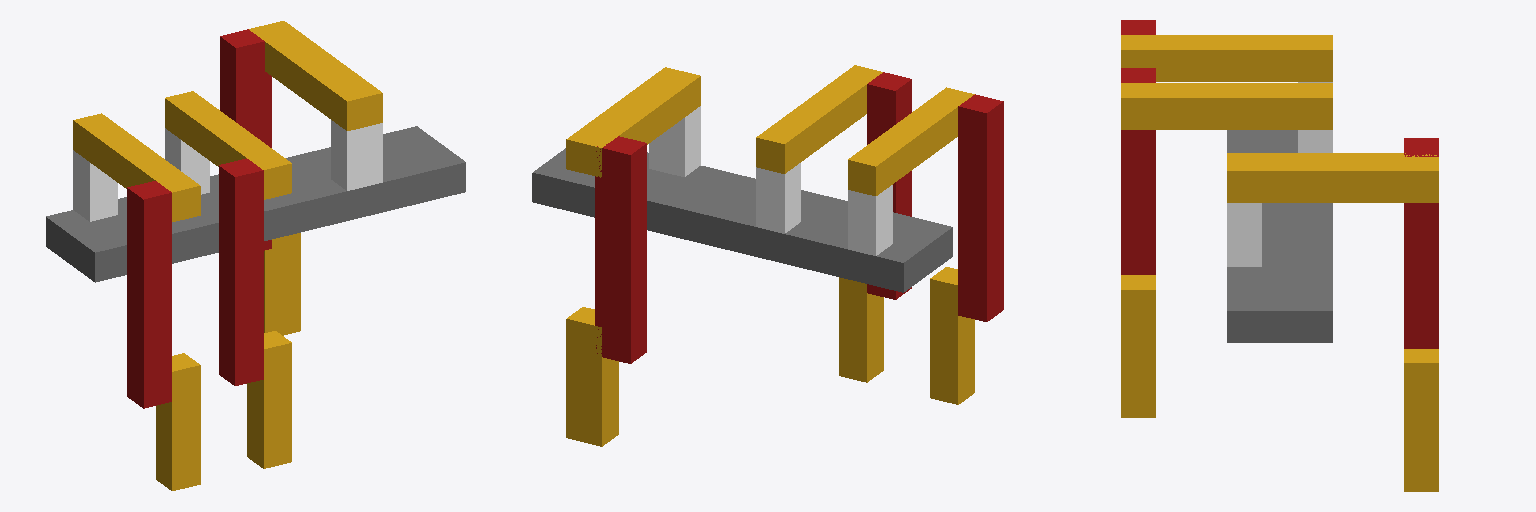
robot.urdf — v0:
<?xml version="1.0" encoding="utf-8"?>
<!-- =================================================================================== -->
<!-- |    This document was autogenerated by xacro from ../robots/v0variants/xacros/v0_4l_16.xacro | -->
<!-- |    EDITING THIS FILE BY HAND IS NOT RECOMMENDED                                 | -->
<!-- =================================================================================== -->
<robot name="v0">
  <material name="grey">
    <color rgba="0.5 0.5 0.5 1"/>
  </material>
  <material name="white">
    <color rgba="1 1 1 1"/>
  </material>
  <material name="yellow">
    <color rgba="0.91 0.7 0.14 1"/>
  </material>
  <material name="red">
    <color rgba="0.71 0.14 0.14 1"/>
  </material>
  <link name="body">
    <visual>
      <geometry>
        <box size="1.3 0.3 0.1"/>
      </geometry>
      <material name="grey"/>
      <origin rpy="0 0 0" xyz="0 0 0.7"/>
    </visual>
    <collision>
      <geometry>
        <box size="1.3 0.3 0.1"/>
      </geometry>
      <origin rpy="0 0 0" xyz="0 0 0.7"/>
    </collision>
    <inertial>
      <mass value="99.84"/>
      <inertia ixx="0.832" ixy="0.0" ixz="0.0" iyy="14.144" iyz="0.0" izz="14.8096"/>
    </inertial>
  </link>
  <link name="l1_segment_1">
    <visual>
      <geometry>
        <box size="0.1 0.1 0.2"/>
      </geometry>
      <material name="white"/>
      <origin rpy="0 0 0" xyz="0 0 0.1"/>
    </visual>
    <collision>
      <geometry>
        <box size="0.1 0.1 0.2"/>
      </geometry>
      <origin rpy="0 0 0" xyz="0 0 0.1"/>
    </collision>
    <inertial>
      <mass value="5.12"/>
      <inertia ixx="0.0213333333333" ixy="0.0" ixz="0.0" iyy="0.0213333333333" iyz="0.0" izz="0.00853333333333"/>
    </inertial>
  </link>
  <joint name="l1_base_to_joint_1" type="fixed">
    <parent link="body"/>
    <child link="l1_segment_1"/>
    <origin rpy="0 0 0" xyz="0.3081286057336212 -0.1 0.75"/>
  </joint>
  <link name="l1_segment_2_HIP">
    <visual>
      <geometry>
        <box size="0.1 0.6 0.1"/>
      </geometry>
      <material name="yellow"/>
      <origin rpy="0 0 0" xyz="0 0.25 0"/>
    </visual>
    <collision>
      <geometry>
        <box size="0.1 0.6 0.1"/>
      </geometry>
      <origin rpy="0 0 0" xyz="0 0.25 0"/>
    </collision>
    <inertial>
      <mass value="15.36"/>
      <inertia ixx="0.4736" ixy="0.0" ixz="0.0" iyy="0.0256" iyz="0.0" izz="0.4736"/>
    </inertial>
  </link>
  <joint name="l1_joint_1_to_2" type="revolute">
    <parent link="l1_segment_1"/>
    <child link="l1_segment_2_HIP"/>
    <origin rpy="0 0 0" xyz="0 0 0.25"/>
    <axis xyz="0.0 0.0 1.0"/>
    <limit effort="2048" lower="-1.2" upper="1.2" velocity="20"/>
  </joint>
  <link name="l1_segment_3_THIGH">
    <visual>
      <geometry>
        <box size="0.1 0.1 0.7"/>
      </geometry>
      <material name="red"/>
      <origin rpy="0 0 0" xyz="0 0 -0.3"/>
    </visual>
    <collision>
      <geometry>
        <box size="0.1 0.1 0.7"/>
      </geometry>
      <origin rpy="0 0 0" xyz="0 0 -0.3"/>
    </collision>
    <inertial>
      <mass value="17.92"/>
      <inertia ixx="0.746666666667" ixy="0.0" ixz="0.0" iyy="0.746666666667" iyz="0.0" izz="0.0298666666667"/>
    </inertial>
  </link>
  <joint name="l1_joint_2_to_3" type="revolute">
    <parent link="l1_segment_2_HIP"/>
    <child link="l1_segment_3_THIGH"/>
    <origin rpy="0 0 0" xyz="-0.1 0.5 0"/>
    <axis xyz="1.0 0.0 0.0"/>
    <limit effort="2048" lower="-0.2" upper="0.75" velocity="20"/>
  </joint>
  <link name="l1_segment_4_FOOT">
    <visual>
      <geometry>
        <box size="0.1 0.1 0.4"/>
      </geometry>
      <material name="yellow"/>
      <origin rpy="0 0 0" xyz="0 0 -0.2"/>
    </visual>
    <collision>
      <geometry>
        <box size="0.1 0.1 0.4"/>
      </geometry>
      <origin rpy="0 0 0" xyz="0 0 -0.2"/>
    </collision>
    <inertial>
      <mass value="10.24"/>
      <inertia ixx="0.145066666667" ixy="0.0" ixz="0.0" iyy="0.145066666667" iyz="0.0" izz="0.0170666666667"/>
    </inertial>
  </link>
  <joint name="l1_joint_3_to_4_FOOT" type="revolute">
    <parent link="l1_segment_3_THIGH"/>
    <child link="l1_segment_4_FOOT"/>
    <origin rpy="0 0 0" xyz="0.1 0 -0.55"/>
    <axis xyz="1.0 0.0 0.0"/>
    <limit effort="2048" lower="-0.2" upper="0.5" velocity="20"/>
  </joint>
  <link name="r2_segment_1">
    <visual>
      <geometry>
        <box size="0.1 0.1 0.2"/>
      </geometry>
      <material name="white"/>
      <origin rpy="0 0 0" xyz="0 0 0.1"/>
    </visual>
    <collision>
      <geometry>
        <box size="0.1 0.1 0.2"/>
      </geometry>
      <origin rpy="0 0 0" xyz="0 0 0.1"/>
    </collision>
    <inertial>
      <mass value="5.12"/>
      <inertia ixx="0.0213333333333" ixy="0.0" ixz="0.0" iyy="0.0213333333333" iyz="0.0" izz="0.00853333333333"/>
    </inertial>
  </link>
  <joint name="r2_base_to_joint_1" type="fixed">
    <parent link="body"/>
    <child link="r2_segment_1"/>
    <origin rpy="0 0 0" xyz="-0.5034749767304219 0.1 0.75"/>
  </joint>
  <link name="r2_segment_2_HIP">
    <visual>
      <geometry>
        <box size="0.1 0.6 0.1"/>
      </geometry>
      <material name="yellow"/>
      <origin rpy="0 0 0" xyz="0 -0.25 0"/>
    </visual>
    <collision>
      <geometry>
        <box size="0.1 0.6 0.1"/>
      </geometry>
      <origin rpy="0 0 0" xyz="0 -0.25 0"/>
    </collision>
    <inertial>
      <mass value="15.36"/>
      <inertia ixx="0.4736" ixy="0.0" ixz="0.0" iyy="0.0256" iyz="0.0" izz="0.4736"/>
    </inertial>
  </link>
  <joint name="r2_joint_1_to_2" type="revolute">
    <parent link="r2_segment_1"/>
    <child link="r2_segment_2_HIP"/>
    <origin rpy="0 0 0" xyz="0 0 0.25"/>
    <axis xyz="0.0 0.0 1.0"/>
    <limit effort="2048" lower="-1.2" upper="1.2" velocity="20"/>
  </joint>
  <link name="r2_segment_3_THIGH">
    <visual>
      <geometry>
        <box size="0.1 0.1 0.7"/>
      </geometry>
      <material name="red"/>
      <origin rpy="0 0 0" xyz="0 0 -0.3"/>
    </visual>
    <collision>
      <geometry>
        <box size="0.1 0.1 0.7"/>
      </geometry>
      <origin rpy="0 0 0" xyz="0 0 -0.3"/>
    </collision>
    <inertial>
      <mass value="17.92"/>
      <inertia ixx="0.746666666667" ixy="0.0" ixz="0.0" iyy="0.746666666667" iyz="0.0" izz="0.0298666666667"/>
    </inertial>
  </link>
  <joint name="r2_joint_2_to_3" type="revolute">
    <parent link="r2_segment_2_HIP"/>
    <child link="r2_segment_3_THIGH"/>
    <origin rpy="0 0 0" xyz="-0.1 -0.5 0"/>
    <axis xyz="1.0 0.0 0.0"/>
    <limit effort="2048" lower="-0.75" upper="0.2" velocity="20"/>
  </joint>
  <link name="r2_segment_4_FOOT">
    <visual>
      <geometry>
        <box size="0.1 0.1 0.4"/>
      </geometry>
      <material name="yellow"/>
      <origin rpy="0 0 0" xyz="0 0 -0.2"/>
    </visual>
    <collision>
      <geometry>
        <box size="0.1 0.1 0.4"/>
      </geometry>
      <origin rpy="0 0 0" xyz="0 0 -0.2"/>
    </collision>
    <inertial>
      <mass value="10.24"/>
      <inertia ixx="0.145066666667" ixy="0.0" ixz="0.0" iyy="0.145066666667" iyz="0.0" izz="0.0170666666667"/>
    </inertial>
  </link>
  <joint name="r2_joint_3_to_4_FOOT" type="revolute">
    <parent link="r2_segment_3_THIGH"/>
    <child link="r2_segment_4_FOOT"/>
    <origin rpy="0 0 0" xyz="0.1 0 -0.55"/>
    <axis xyz="1.0 0.0 0.0"/>
    <limit effort="2048" lower="-0.5" upper="0.2" velocity="20"/>
  </joint>
  <link name="l3_segment_1">
    <visual>
      <geometry>
        <box size="0.1 0.1 0.2"/>
      </geometry>
      <material name="white"/>
      <origin rpy="0 0 0" xyz="0 0 0.1"/>
    </visual>
    <collision>
      <geometry>
        <box size="0.1 0.1 0.2"/>
      </geometry>
      <origin rpy="0 0 0" xyz="0 0 0.1"/>
    </collision>
    <inertial>
      <mass value="5.12"/>
      <inertia ixx="0.0213333333333" ixy="0.0" ixz="0.0" iyy="0.0213333333333" iyz="0.0" izz="0.00853333333333"/>
    </inertial>
  </link>
  <joint name="l3_base_to_joint_1" type="fixed">
    <parent link="body"/>
    <child link="l3_segment_1"/>
    <origin rpy="0 0 0" xyz="0.2829083975352844 -0.1 0.75"/>
  </joint>
  <link name="l3_segment_2_HIP">
    <visual>
      <geometry>
        <box size="0.1 0.6 0.1"/>
      </geometry>
      <material name="yellow"/>
      <origin rpy="0 0 0" xyz="0 0.25 0"/>
    </visual>
    <collision>
      <geometry>
        <box size="0.1 0.6 0.1"/>
      </geometry>
      <origin rpy="0 0 0" xyz="0 0.25 0"/>
    </collision>
    <inertial>
      <mass value="15.36"/>
      <inertia ixx="0.4736" ixy="0.0" ixz="0.0" iyy="0.0256" iyz="0.0" izz="0.4736"/>
    </inertial>
  </link>
  <joint name="l3_joint_1_to_2" type="revolute">
    <parent link="l3_segment_1"/>
    <child link="l3_segment_2_HIP"/>
    <origin rpy="0 0 0" xyz="0 0 0.25"/>
    <axis xyz="0.0 0.0 1.0"/>
    <limit effort="2048" lower="-1.2" upper="1.2" velocity="20"/>
  </joint>
  <link name="l3_segment_3_THIGH">
    <visual>
      <geometry>
        <box size="0.1 0.1 0.7"/>
      </geometry>
      <material name="red"/>
      <origin rpy="0 0 0" xyz="0 0 -0.3"/>
    </visual>
    <collision>
      <geometry>
        <box size="0.1 0.1 0.7"/>
      </geometry>
      <origin rpy="0 0 0" xyz="0 0 -0.3"/>
    </collision>
    <inertial>
      <mass value="17.92"/>
      <inertia ixx="0.746666666667" ixy="0.0" ixz="0.0" iyy="0.746666666667" iyz="0.0" izz="0.0298666666667"/>
    </inertial>
  </link>
  <joint name="l3_joint_2_to_3" type="revolute">
    <parent link="l3_segment_2_HIP"/>
    <child link="l3_segment_3_THIGH"/>
    <origin rpy="0 0 0" xyz="-0.1 0.5 0"/>
    <axis xyz="1.0 0.0 0.0"/>
    <limit effort="2048" lower="-0.2" upper="0.75" velocity="20"/>
  </joint>
  <link name="l3_segment_4_FOOT">
    <visual>
      <geometry>
        <box size="0.1 0.1 0.4"/>
      </geometry>
      <material name="yellow"/>
      <origin rpy="0 0 0" xyz="0 0 -0.2"/>
    </visual>
    <collision>
      <geometry>
        <box size="0.1 0.1 0.4"/>
      </geometry>
      <origin rpy="0 0 0" xyz="0 0 -0.2"/>
    </collision>
    <inertial>
      <mass value="10.24"/>
      <inertia ixx="0.145066666667" ixy="0.0" ixz="0.0" iyy="0.145066666667" iyz="0.0" izz="0.0170666666667"/>
    </inertial>
  </link>
  <joint name="l3_joint_3_to_4_FOOT" type="revolute">
    <parent link="l3_segment_3_THIGH"/>
    <child link="l3_segment_4_FOOT"/>
    <origin rpy="0 0 0" xyz="0.1 0 -0.55"/>
    <axis xyz="1.0 0.0 0.0"/>
    <limit effort="2048" lower="-0.2" upper="0.5" velocity="20"/>
  </joint>
  <link name="r4_segment_1">
    <visual>
      <geometry>
        <box size="0.1 0.1 0.2"/>
      </geometry>
      <material name="white"/>
      <origin rpy="0 0 0" xyz="0 0 0.1"/>
    </visual>
    <collision>
      <geometry>
        <box size="0.1 0.1 0.2"/>
      </geometry>
      <origin rpy="0 0 0" xyz="0 0 0.1"/>
    </collision>
    <inertial>
      <mass value="5.12"/>
      <inertia ixx="0.0213333333333" ixy="0.0" ixz="0.0" iyy="0.0213333333333" iyz="0.0" izz="0.00853333333333"/>
    </inertial>
  </link>
  <joint name="r4_base_to_joint_1" type="fixed">
    <parent link="body"/>
    <child link="r4_segment_1"/>
    <origin rpy="0 0 0" xyz="-0.18328000859326543 0.1 0.75"/>
  </joint>
  <link name="r4_segment_2_HIP">
    <visual>
      <geometry>
        <box size="0.1 0.6 0.1"/>
      </geometry>
      <material name="yellow"/>
      <origin rpy="0 0 0" xyz="0 -0.25 0"/>
    </visual>
    <collision>
      <geometry>
        <box size="0.1 0.6 0.1"/>
      </geometry>
      <origin rpy="0 0 0" xyz="0 -0.25 0"/>
    </collision>
    <inertial>
      <mass value="15.36"/>
      <inertia ixx="0.4736" ixy="0.0" ixz="0.0" iyy="0.0256" iyz="0.0" izz="0.4736"/>
    </inertial>
  </link>
  <joint name="r4_joint_1_to_2" type="revolute">
    <parent link="r4_segment_1"/>
    <child link="r4_segment_2_HIP"/>
    <origin rpy="0 0 0" xyz="0 0 0.25"/>
    <axis xyz="0.0 0.0 1.0"/>
    <limit effort="2048" lower="-1.2" upper="1.2" velocity="20"/>
  </joint>
  <link name="r4_segment_3_THIGH">
    <visual>
      <geometry>
        <box size="0.1 0.1 0.7"/>
      </geometry>
      <material name="red"/>
      <origin rpy="0 0 0" xyz="0 0 -0.3"/>
    </visual>
    <collision>
      <geometry>
        <box size="0.1 0.1 0.7"/>
      </geometry>
      <origin rpy="0 0 0" xyz="0 0 -0.3"/>
    </collision>
    <inertial>
      <mass value="17.92"/>
      <inertia ixx="0.746666666667" ixy="0.0" ixz="0.0" iyy="0.746666666667" iyz="0.0" izz="0.0298666666667"/>
    </inertial>
  </link>
  <joint name="r4_joint_2_to_3" type="revolute">
    <parent link="r4_segment_2_HIP"/>
    <child link="r4_segment_3_THIGH"/>
    <origin rpy="0 0 0" xyz="-0.1 -0.5 0"/>
    <axis xyz="1.0 0.0 0.0"/>
    <limit effort="2048" lower="-0.75" upper="0.2" velocity="20"/>
  </joint>
  <link name="r4_segment_4_FOOT">
    <visual>
      <geometry>
        <box size="0.1 0.1 0.4"/>
      </geometry>
      <material name="yellow"/>
      <origin rpy="0 0 0" xyz="0 0 -0.2"/>
    </visual>
    <collision>
      <geometry>
        <box size="0.1 0.1 0.4"/>
      </geometry>
      <origin rpy="0 0 0" xyz="0 0 -0.2"/>
    </collision>
    <inertial>
      <mass value="10.24"/>
      <inertia ixx="0.145066666667" ixy="0.0" ixz="0.0" iyy="0.145066666667" iyz="0.0" izz="0.0170666666667"/>
    </inertial>
  </link>
  <joint name="r4_joint_3_to_4_FOOT" type="revolute">
    <parent link="r4_segment_3_THIGH"/>
    <child link="r4_segment_4_FOOT"/>
    <origin rpy="0 0 0" xyz="0.1 0 -0.55"/>
    <axis xyz="1.0 0.0 0.0"/>
    <limit effort="2048" lower="-0.5" upper="0.2" velocity="20"/>
  </joint>
</robot>

--- Facts derived from the render (not from the file) ---
3 views of the same robot in one strip: view 1: azimuth 30°, elevation 25°; view 2: azimuth 150°, elevation 25°; view 3: azimuth 270°, elevation 25° (orthographic).
Robot: v0 — 17 links, 16 joints (12 revolute, 4 fixed); root link body; default pose: every joint at zero.
Visible links, largest first — view 1: body, r2_segment_3_THIGH, r4_segment_3_THIGH, r2_segment_2_HIP, r4_segment_2_HIP, l3_segment_2_HIP, r2_segment_4_FOOT, r4_segment_4_FOOT, l1_segment_4_FOOT, l3_segment_3_THIGH, l1_segment_3_THIGH, r2_segment_1 (+5 smaller); view 2: body, r2_segment_3_THIGH, l3_segment_3_THIGH, r4_segment_2_HIP, r2_segment_2_HIP, l3_segment_2_HIP, r2_segment_4_FOOT, l3_segment_4_FOOT, r4_segment_4_FOOT, r4_segment_3_THIGH, r2_segment_1, r4_segment_1 (+5 smaller); view 3: body, r4_segment_2_HIP, r2_segment_2_HIP, l1_segment_2_HIP, r4_segment_3_THIGH, l1_segment_3_THIGH, r4_segment_4_FOOT, l1_segment_4_FOOT, l3_segment_2_HIP, l1_segment_1, r4_segment_1, r2_segment_3_THIGH.
Boxes of the visible links, x1=… form: body: x1=46, y1=126, x2=465, y2=282; r2_segment_3_THIGH: x1=127, y1=181, x2=171, y2=408; r4_segment_3_THIGH: x1=219, y1=158, x2=263, y2=385; r2_segment_2_HIP: x1=73, y1=113, x2=200, y2=221; r4_segment_2_HIP: x1=165, y1=91, x2=291, y2=199; l3_segment_2_HIP: x1=249, y1=22, x2=375, y2=130; r2_segment_4_FOOT: x1=156, y1=353, x2=200, y2=490; r4_segment_4_FOOT: x1=247, y1=331, x2=291, y2=468; l1_segment_4_FOOT: x1=272, y1=233, x2=300, y2=335; l3_segment_3_THIGH: x1=220, y1=30, x2=263, y2=137; l1_segment_3_THIGH: x1=231, y1=29, x2=271, y2=250; r2_segment_1: x1=73, y1=150, x2=117, y2=221; body: x1=532, y1=148, x2=952, y2=292; r2_segment_3_THIGH: x1=958, y1=94, x2=1003, y2=321; l3_segment_3_THIGH: x1=602, y1=136, x2=646, y2=363; r4_segment_2_HIP: x1=756, y1=65, x2=882, y2=173; r2_segment_2_HIP: x1=848, y1=87, x2=974, y2=195; l3_segment_2_HIP: x1=574, y1=69, x2=700, y2=177; r2_segment_4_FOOT: x1=930, y1=267, x2=974, y2=404; l3_segment_4_FOOT: x1=574, y1=308, x2=618, y2=446; r4_segment_4_FOOT: x1=839, y1=277, x2=883, y2=382; r4_segment_3_THIGH: x1=867, y1=72, x2=911, y2=299; r2_segment_1: x1=848, y1=185, x2=892, y2=255; r4_segment_1: x1=756, y1=163, x2=800, y2=233; body: x1=1227, y1=130, x2=1332, y2=342; r4_segment_2_HIP: x1=1121, y1=83, x2=1332, y2=129; r2_segment_2_HIP: x1=1121, y1=35, x2=1332, y2=81; l1_segment_2_HIP: x1=1227, y1=157, x2=1438, y2=202; r4_segment_3_THIGH: x1=1121, y1=68, x2=1155, y2=274; l1_segment_3_THIGH: x1=1404, y1=142, x2=1438, y2=348; r4_segment_4_FOOT: x1=1121, y1=275, x2=1155, y2=417; l1_segment_4_FOOT: x1=1404, y1=349, x2=1438, y2=491; l3_segment_2_HIP: x1=1227, y1=153, x2=1438, y2=167; l1_segment_1: x1=1227, y1=203, x2=1261, y2=266; r4_segment_1: x1=1298, y1=130, x2=1332, y2=152; r2_segment_3_THIGH: x1=1121, y1=20, x2=1155, y2=34.
Bounding box of the posed robot: 1.3 × 0.9 × 1 m (x, y, z).
Geometry: primitives only (box / cylinder / sphere), no mesh files.